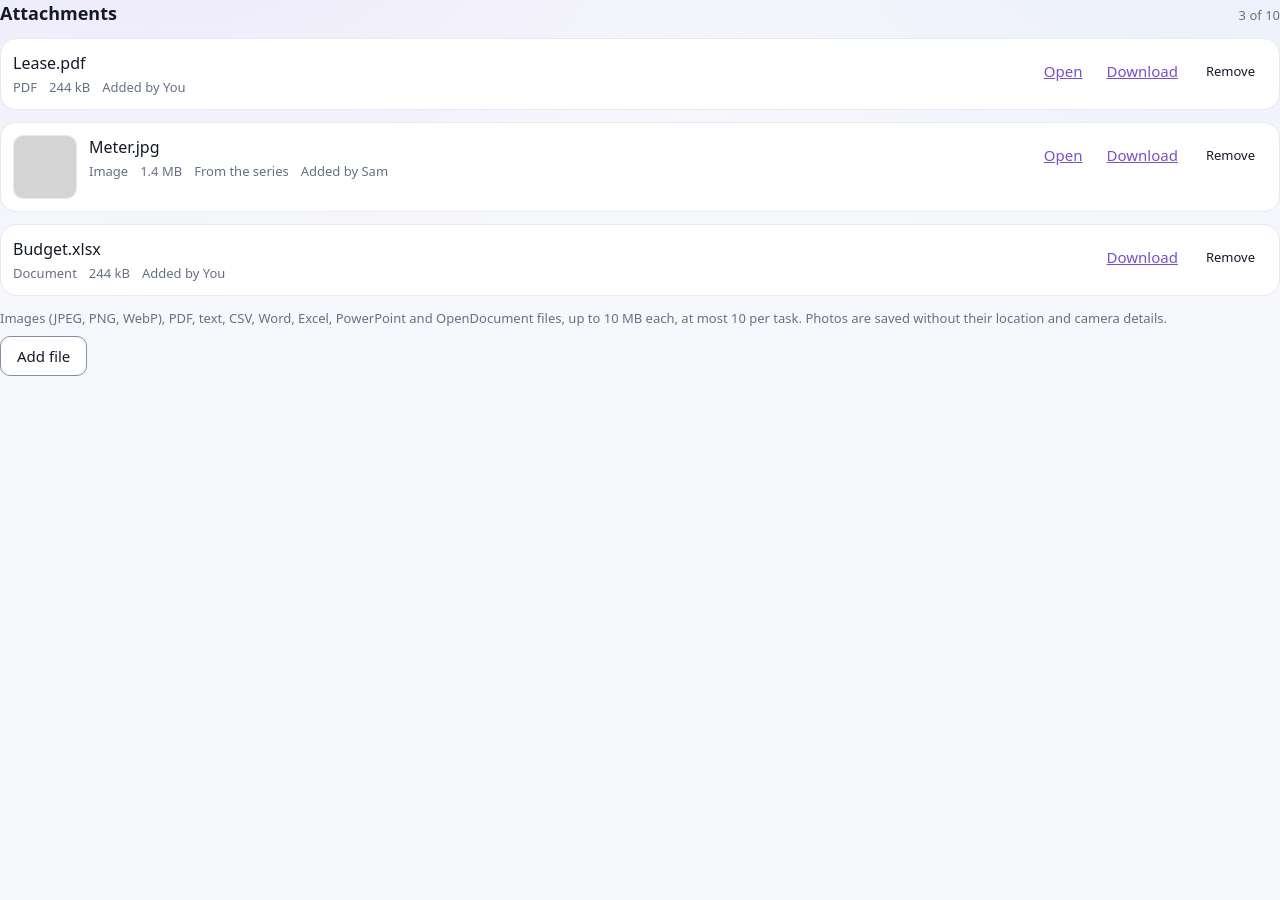
Test: TaskAttachments › removes into the trash after confirming, and offers series scopes only for a series file
This screenshot has width=1280, height=900.
Click the button with aria-label "Remove Lease.pdf".
click(1230, 71)  # box [1194,51,1267,91]
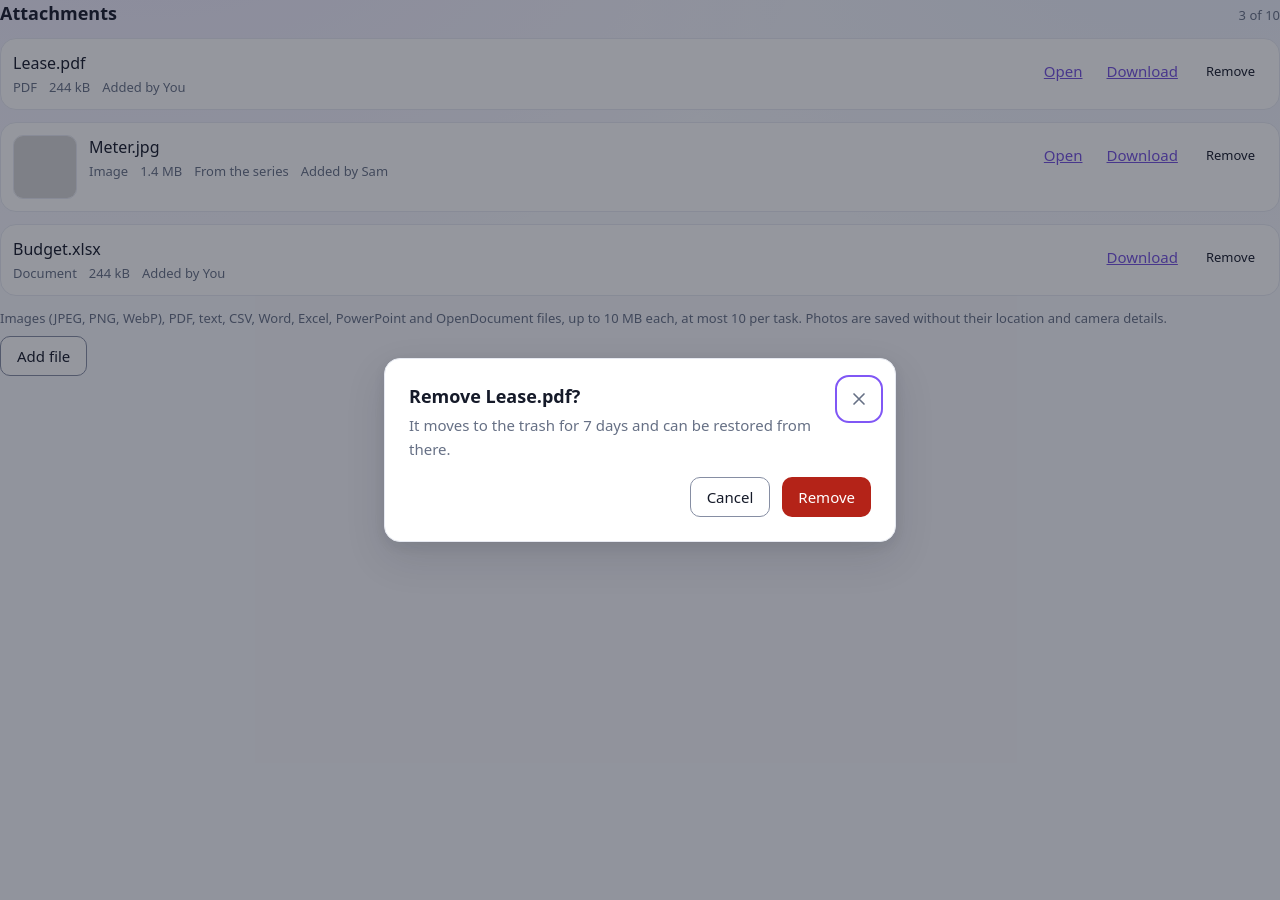
Expected: the dialog named "Remove Lease.pdf ?" shows "It moves to the trash for 7 days", [409,415,811,459]
Click the button with test id "attachment-remove-confirm".
click(827, 497)  # box [782,477,871,517]
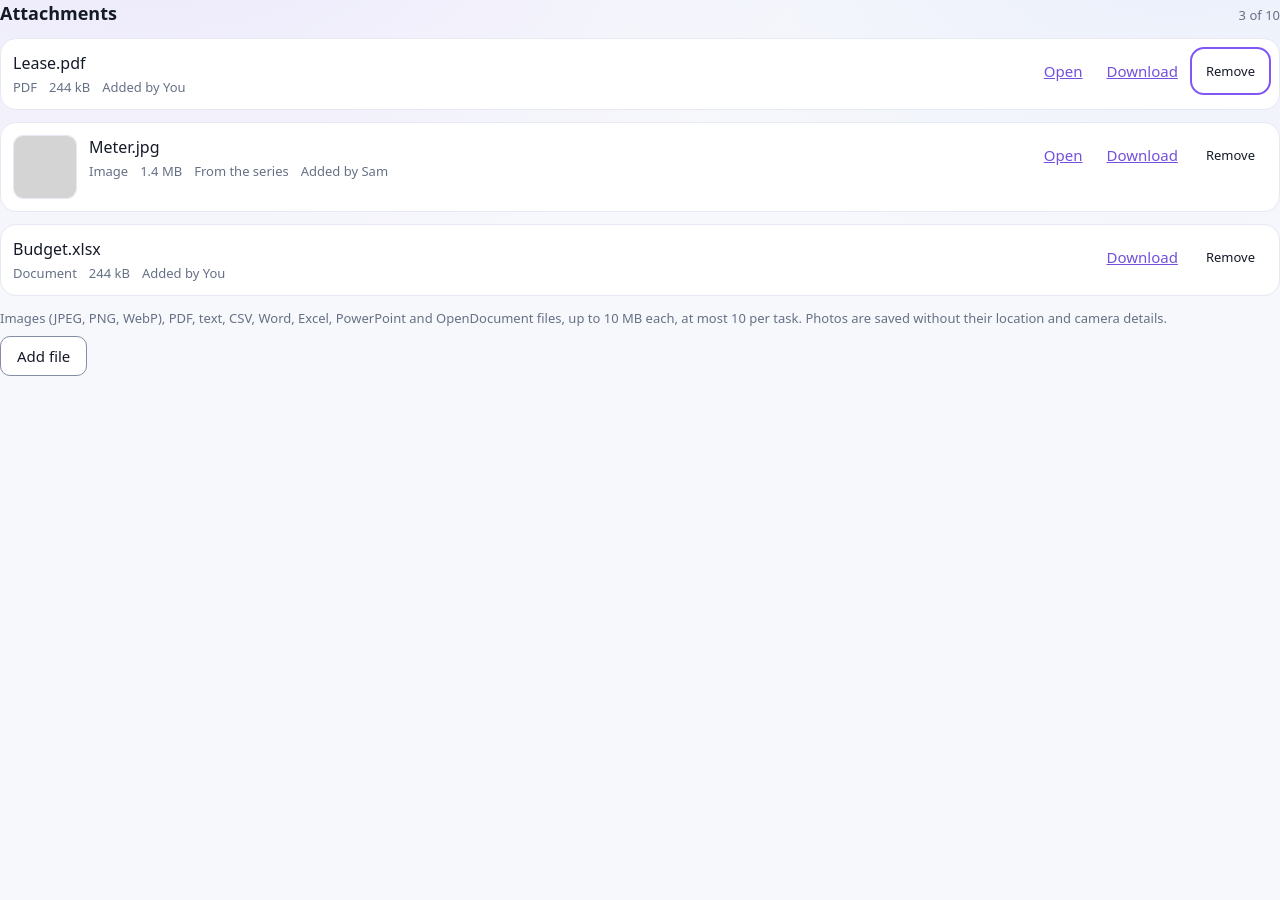
Click the button with aria-label "Remove Meter.jpg".
click(1230, 155)  # box [1194,135,1267,175]
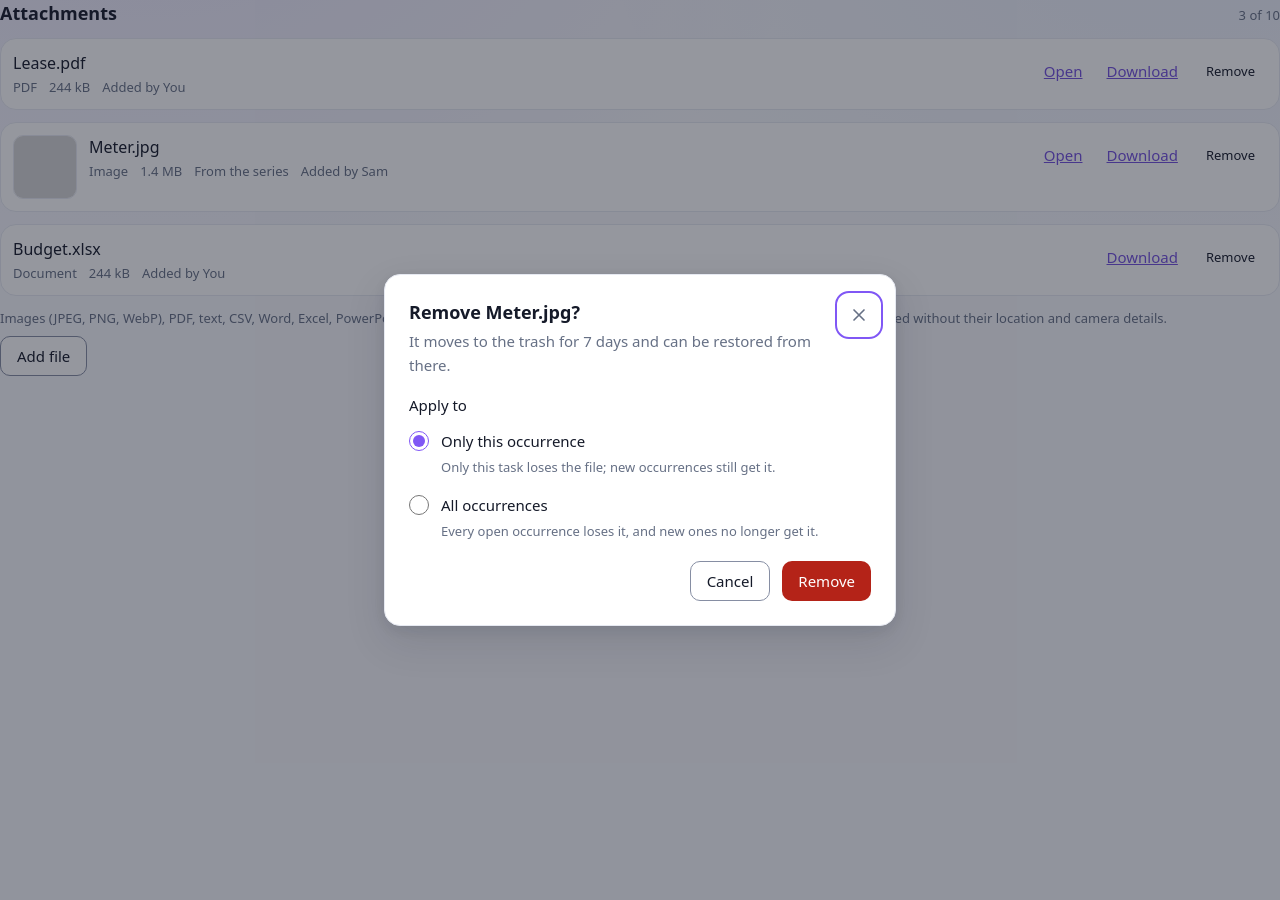
Expected: the radio button labelled "All occurrences" is shown, [409,495,429,515]
